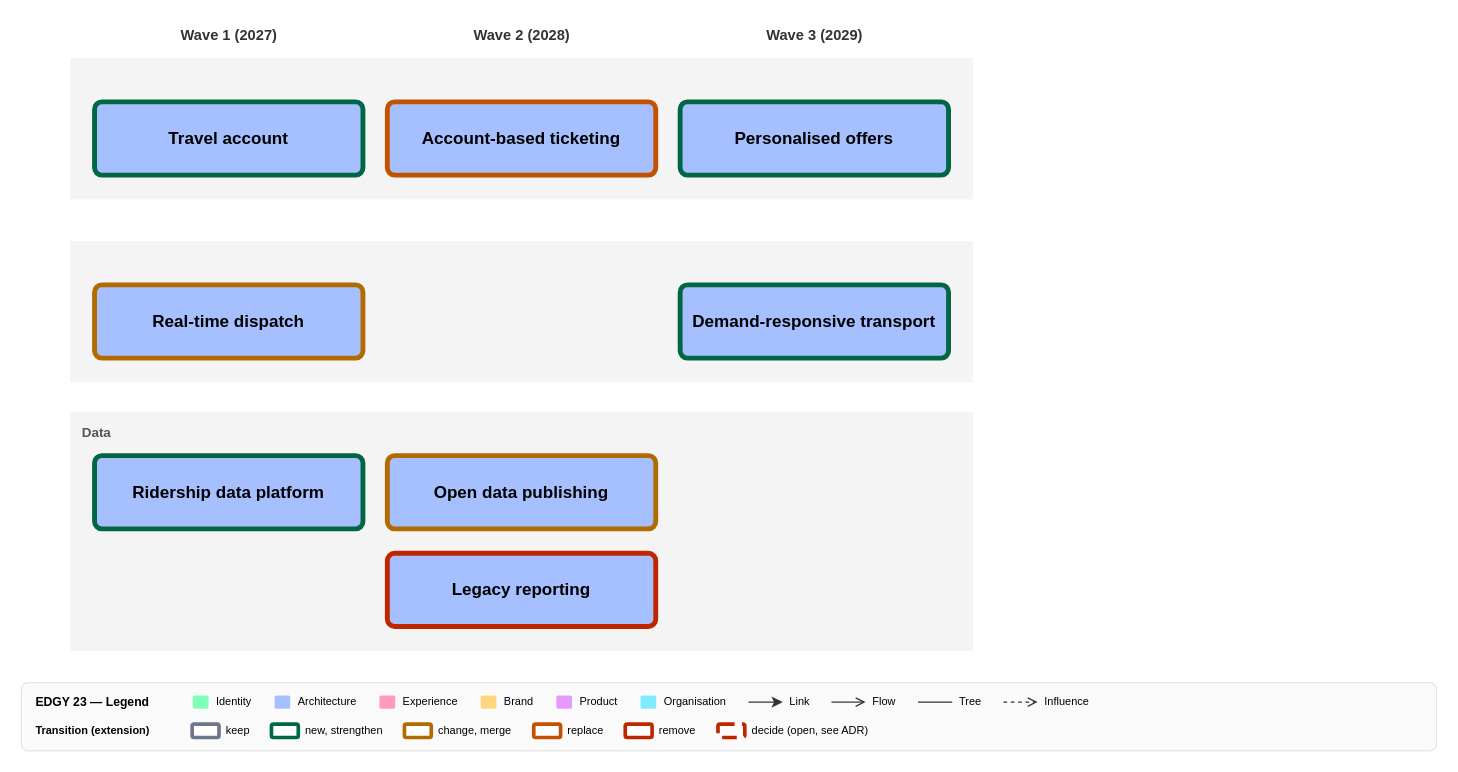
This 1458x772 diagram has some shape labels left out. The shapes that lost their labels are listed below. From the top down, each one's box as (x1, y1, x2, y2) in pixels, then its label:
(70, 57, 972, 199): Customer
(70, 240, 972, 382): Operations
